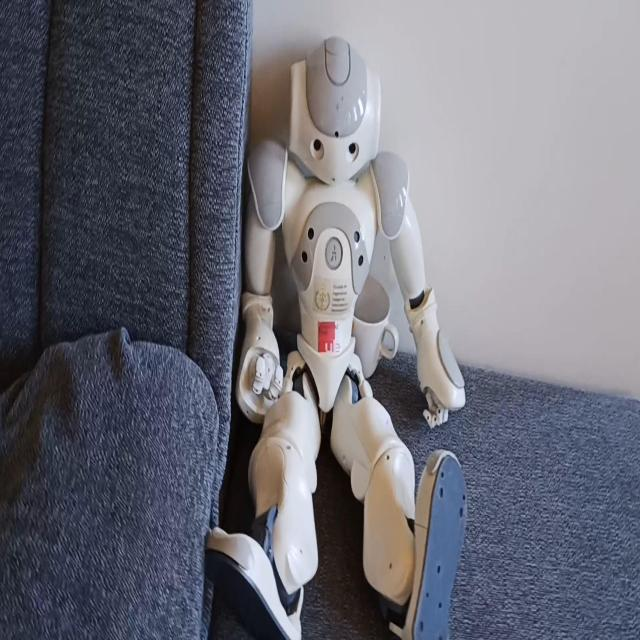cup: (351, 271, 402, 386)
